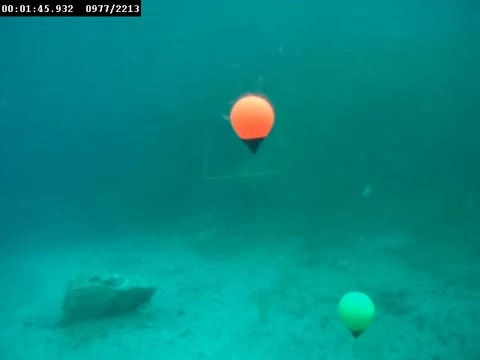buoy_green: (337, 290, 375, 341)
buoy_red: (228, 93, 276, 155)
